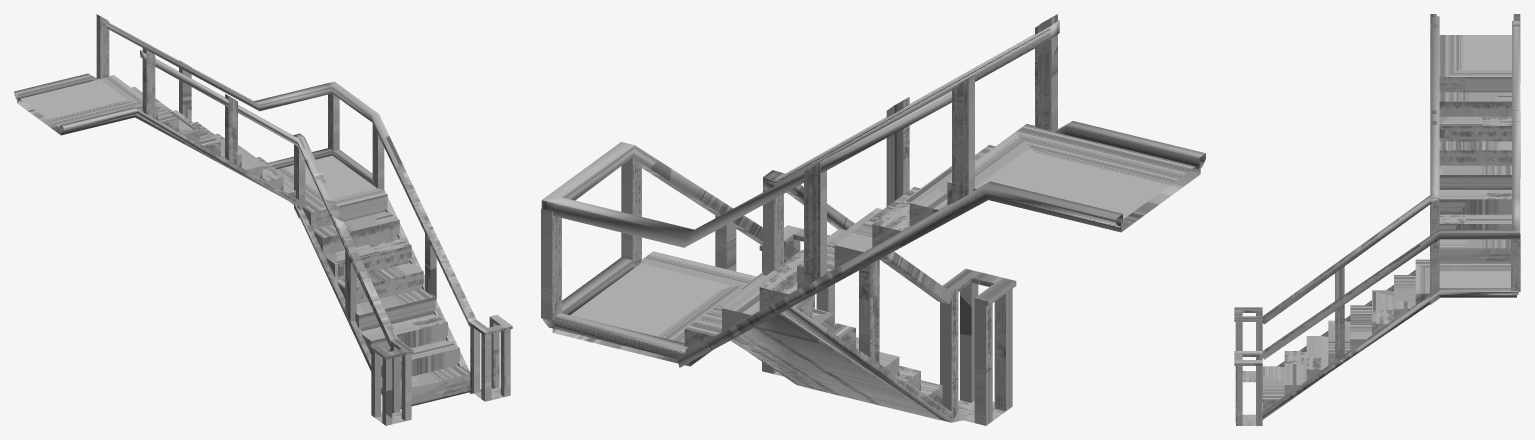
File: Stairway_2.fbx
The picture shows the model from 3 angles, left to right: view 1: azimuth 30°, elevation 25°; view 2: azimuth 150°, elevation 25°; view 3: azimuth 270°, elevation 25°; orthographic projection. The views are drawn at different scales.
Parts seen in each view (by area): view 1: Stairway_1_002.003, Stairway_1_002.002, Stairway_1_002.001, Stairway_1_002.004; view 2: Stairway_1_002.002, Stairway_1_002.004, Stairway_1_002.001, Stairway_1_002.003; view 3: Stairway_1_002.002, Stairway_1_002.001, Stairway_1_002.003, Stairway_1_002.004.
Part boxes in pixels (<box>): Stairway_1_002.003: <box>277,155,470,408</box>; Stairway_1_002.002: <box>14,14,307,206</box>; Stairway_1_002.001: <box>105,21,512,401</box>; Stairway_1_002.004: <box>140,50,413,425</box>; Stairway_1_002.002: <box>677,14,1205,367</box>; Stairway_1_002.004: <box>763,20,1059,425</box>; Stairway_1_002.001: <box>541,90,951,386</box>; Stairway_1_002.003: <box>552,251,942,420</box>; Stairway_1_002.002: <box>1430,14,1520,261</box>; Stairway_1_002.001: <box>1234,21,1520,425</box>; Stairway_1_002.003: <box>1262,259,1516,411</box>; Stairway_1_002.004: <box>1234,16,1439,382</box>.
Bounding box in the file's own units: 8.98 × 8.36 × 7.2.
